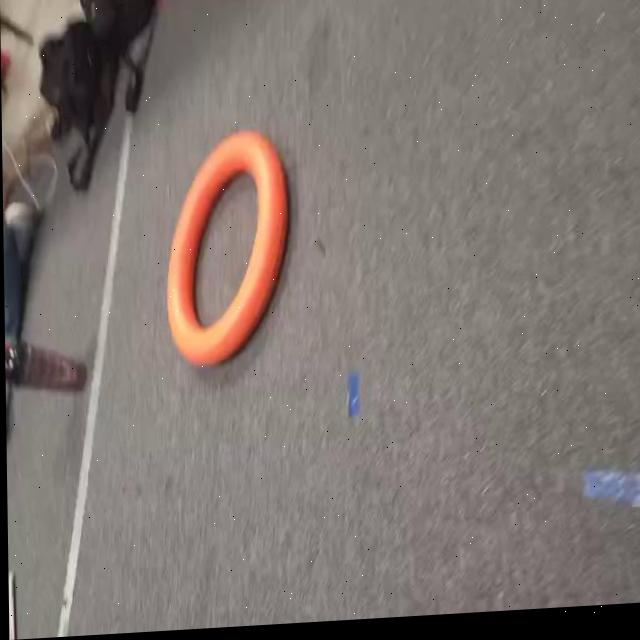note: (153, 130, 308, 382)
